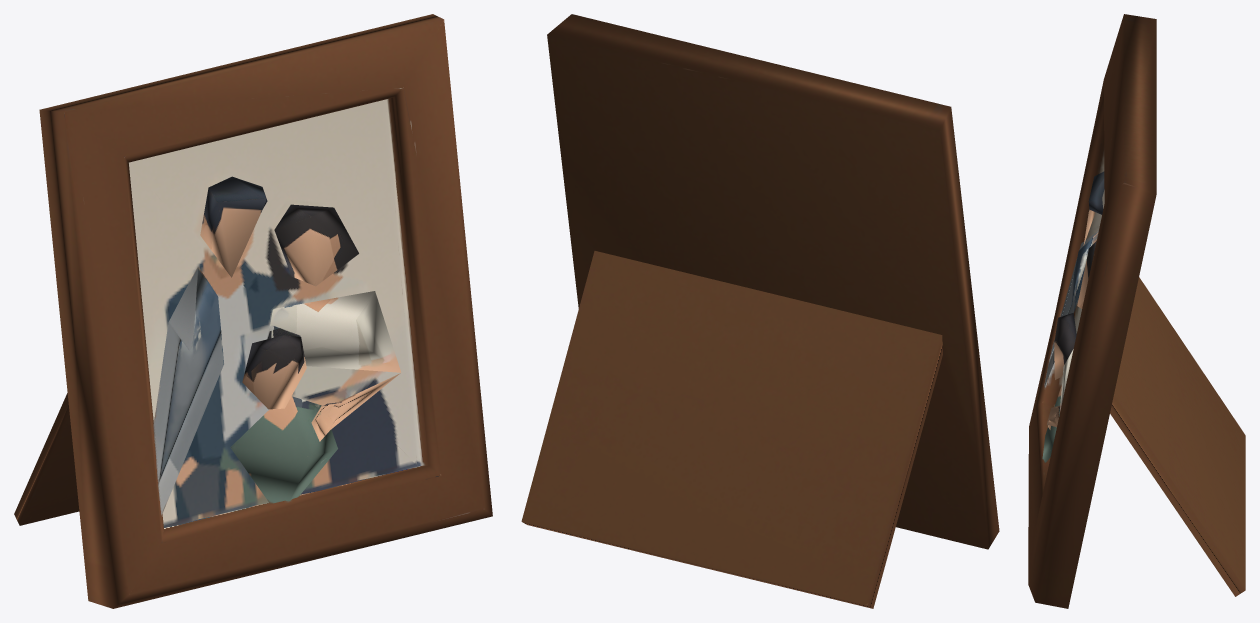
Rendered from photo_frame.glb.
3 renders of one model, left to right at view 1: azimuth 30°, elevation 25°; view 2: azimuth 150°, elevation 25°; view 3: azimuth 270°, elevation 25°, orthographic. The views are drawn at different scales.
Size of the model in its own units: 0.8418 by 0.9497 by 0.4424.
1 material, 1 textured.
